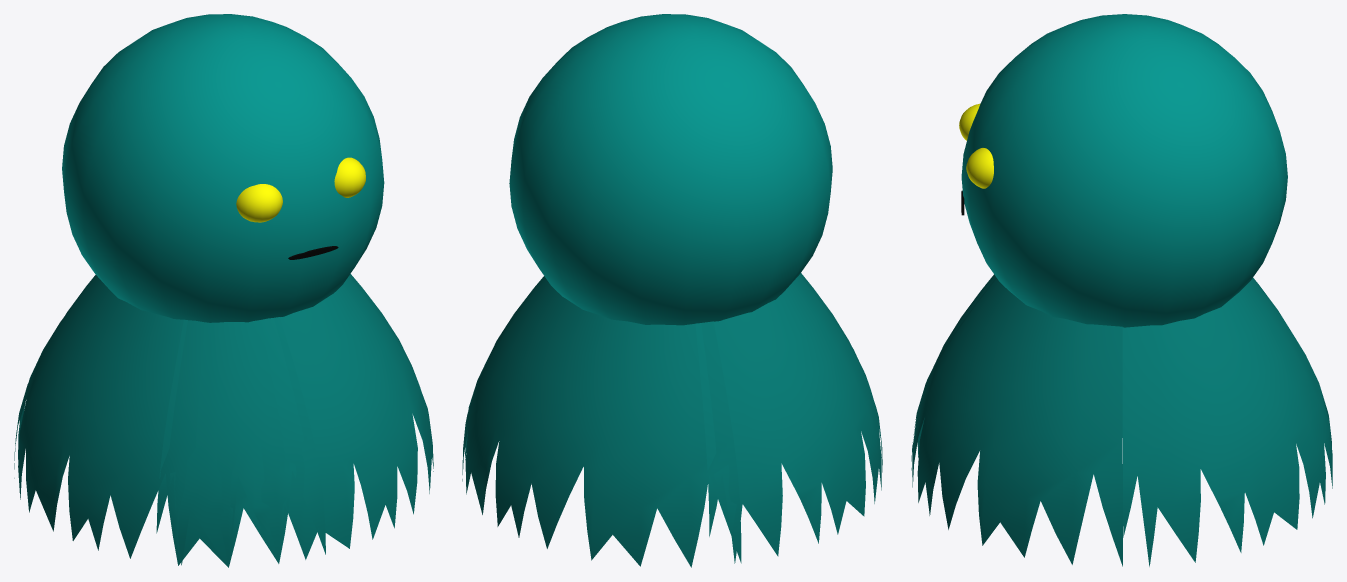
File: EnemyModel.fbx
3 views of the same model, side by side, from view 1: azimuth 30°, elevation 25°; view 2: azimuth 150°, elevation 25°; view 3: azimuth 270°, elevation 25° (orthographic).
Visible parts, largest first — view 1: pSphere4, pPlane11, pPlane12, pSphere3, pSphere2; view 2: pSphere4, pPlane10, pPlane11; view 3: pSphere4, pPlane12, pPlane10, pSphere2, pPlane11.
Boxes of the visible parts, x1,y1,x2,y2 form: pSphere4: (62, 14, 384, 322); pPlane11: (14, 275, 325, 567); pPlane12: (156, 274, 433, 567); pSphere3: (236, 184, 282, 222); pSphere2: (334, 157, 365, 197); pSphere4: (509, 14, 832, 325); pPlane10: (462, 276, 741, 567); pPlane11: (695, 273, 882, 563); pSphere4: (961, 14, 1287, 327); pPlane12: (912, 276, 1122, 566); pPlane10: (1122, 278, 1332, 566); pSphere2: (966, 148, 993, 188); pPlane11: (911, 274, 996, 470).
Size of the model in its own units: 1.32 by 1.56 by 1.31.
